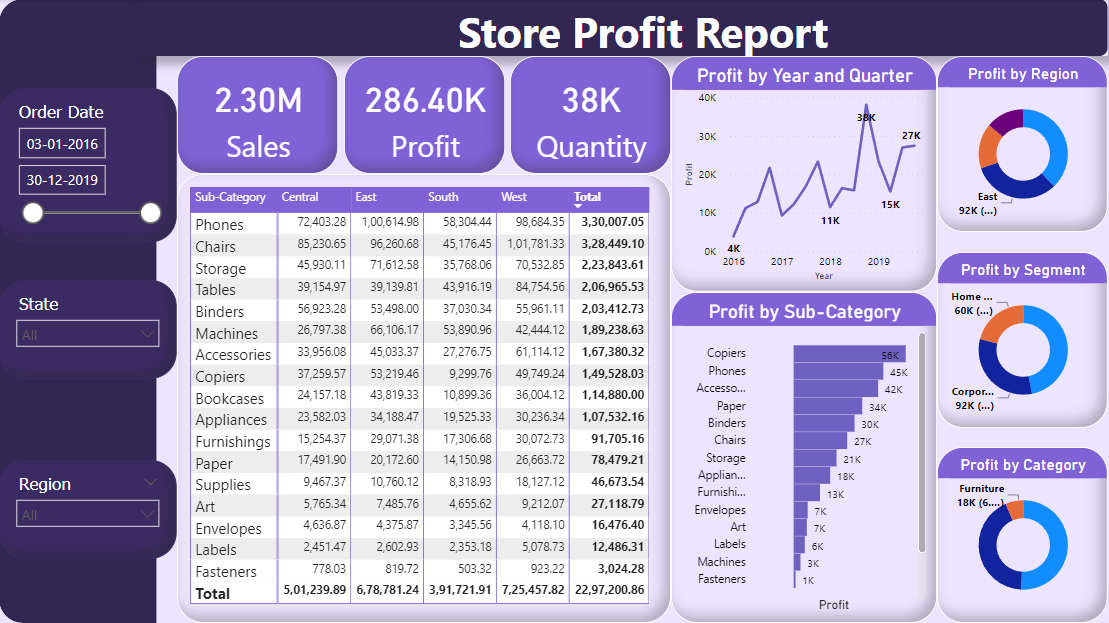

Layout of this report page (visuals, bound fields, positions):
{"tool":"powerbi","page":{"name":"Page 1","canvas":[1280,720],"ordinal":0},"visuals":[{"type":"shape","box":[0,0,182.3,720],"z":0},{"type":"shape","box":[160.4,0,1119.2,65.8],"z":1000},{"type":"textbox","box":[480,0,526.2,77.3],"z":2000},{"type":"slicer","fields":{"Values":["Orders.State"]},"box":[0,324.2,205.4,114.2],"z":3000},{"type":"slicer","fields":{"Values":["Orders.Order Date"]},"box":[0,102.7,205.4,177.7],"z":4000},{"type":"slicer","fields":{"Values":["Orders.Region"]},"box":[0,531.9,205.4,114.2],"z":5000},{"type":"donutChart","fields":{"Y":["Sum(Orders.Profit)"],"Category":["Orders.Region"]},"box":[1082.3,65.8,197.3,203.1],"z":6000},{"type":"donutChart","fields":{"Category":["Orders.Category"],"Y":["Sum(Orders.Profit)"]},"box":[1082.3,516.9,197.3,203.1],"z":7000},{"type":"donutChart","fields":{"Category":["Orders.Segment"],"Y":["Sum(Orders.Profit)"]},"box":[1082.3,291.9,197.3,203.1],"z":8000},{"type":"lineChart","fields":{"Category":["Orders.Order Date.Variation.Date Hierarchy.Year","Orders.Order Date.Variation.Date Hierarchy.Quarter","Orders.Order Date.Variation.Date Hierarchy.Month","Orders.Order Date.Variation.Date Hierarchy.Day"],"Y":["Sum(Orders.Profit)"]},"box":[775.4,65.8,306.9,272.3],"z":9000},{"type":"pivotTable","fields":{"Rows":["Orders.Sub-Category"],"Columns":["Orders.Region"],"Values":["Sum(Orders.Sales)"]},"box":[205.4,201.9,570,518.1],"z":10000},{"type":"barChart","fields":{"Category":["Orders.Sub-Category"],"Y":["Sum(Orders.Profit)"]},"box":[775.4,338.1,306.9,381.9],"z":11000},{"type":"card","fields":{"Values":["Sum(Orders.Sales)"]},"box":[205.4,65.8,185.8,136.2],"z":12000},{"type":"card","fields":{"Values":["Sum(Orders.Profit)"]},"box":[398.1,65.8,185.8,136.2],"z":13000},{"type":"card","fields":{"Values":["Sum(Orders.Quantity)"]},"box":[589.6,65.8,185.8,136.2],"z":14000}]}

Visuals, with their boxes in screenshot pixels (x1, y1, x2, y2), scaled from the page's 1280x720 canvas onto the 1109x623 screenshot:
shape: <bbox>0, 0, 158, 622</bbox>
shape: <bbox>139, 0, 1108, 57</bbox>
textbox: <bbox>416, 0, 872, 67</bbox>
slicer - Orders.State: <bbox>0, 281, 178, 379</bbox>
slicer - Orders.Order Date: <bbox>0, 89, 178, 243</bbox>
slicer - Orders.Region: <bbox>0, 460, 178, 559</bbox>
donutChart - Sum(Orders.Profit) x Orders.Region: <bbox>938, 57, 1108, 233</bbox>
donutChart - Orders.Category x Sum(Orders.Profit): <bbox>938, 447, 1108, 622</bbox>
donutChart - Orders.Segment x Sum(Orders.Profit): <bbox>938, 253, 1108, 428</bbox>
lineChart - Orders.Order Date.Variation.Date Hierarchy.Year x Orders.Order Date.Variation.Date Hierarchy.Quarter: <bbox>672, 57, 938, 293</bbox>
pivotTable - Orders.Sub-Category x Orders.Region: <bbox>178, 175, 672, 622</bbox>
barChart - Orders.Sub-Category x Sum(Orders.Profit): <bbox>672, 293, 938, 622</bbox>
card - Sum(Orders.Sales): <bbox>178, 57, 339, 175</bbox>
card - Sum(Orders.Profit): <bbox>345, 57, 506, 175</bbox>
card - Sum(Orders.Quantity): <bbox>511, 57, 672, 175</bbox>
